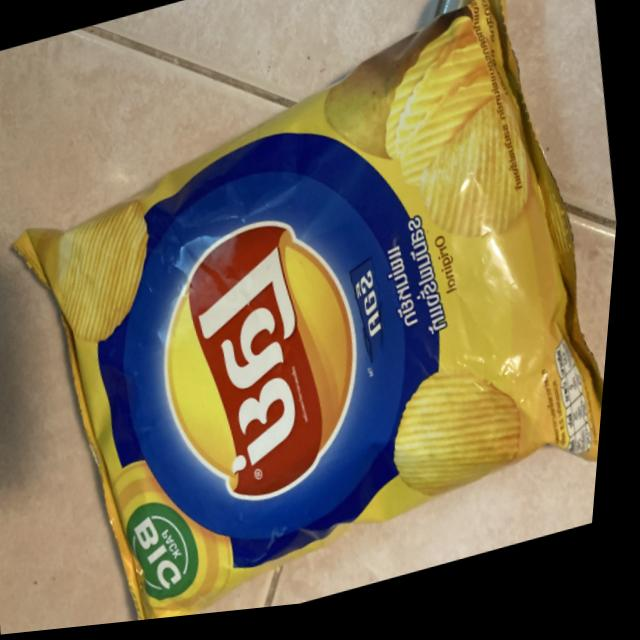LayYellow: (1, 34, 634, 637)
